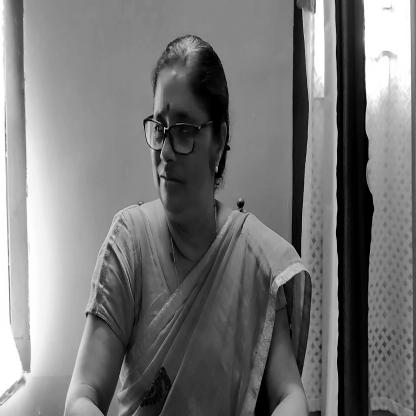Distracted: (146, 35, 232, 219)
